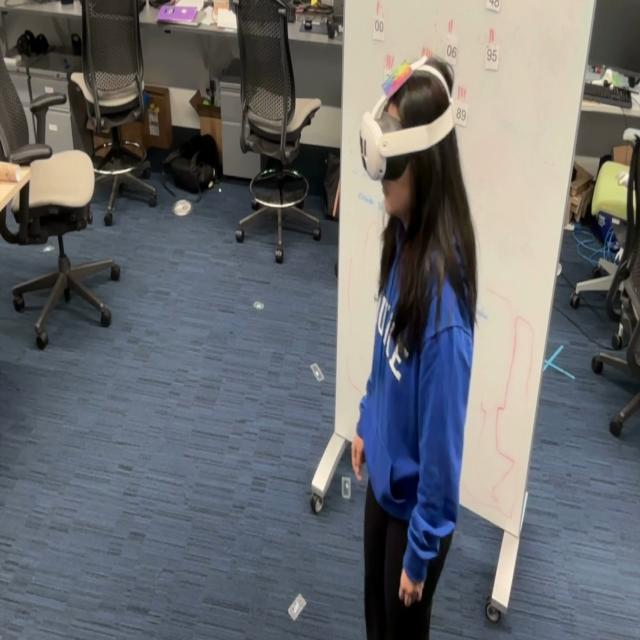Headset: (359, 60, 455, 181)
Marker: (382, 61, 418, 110)
